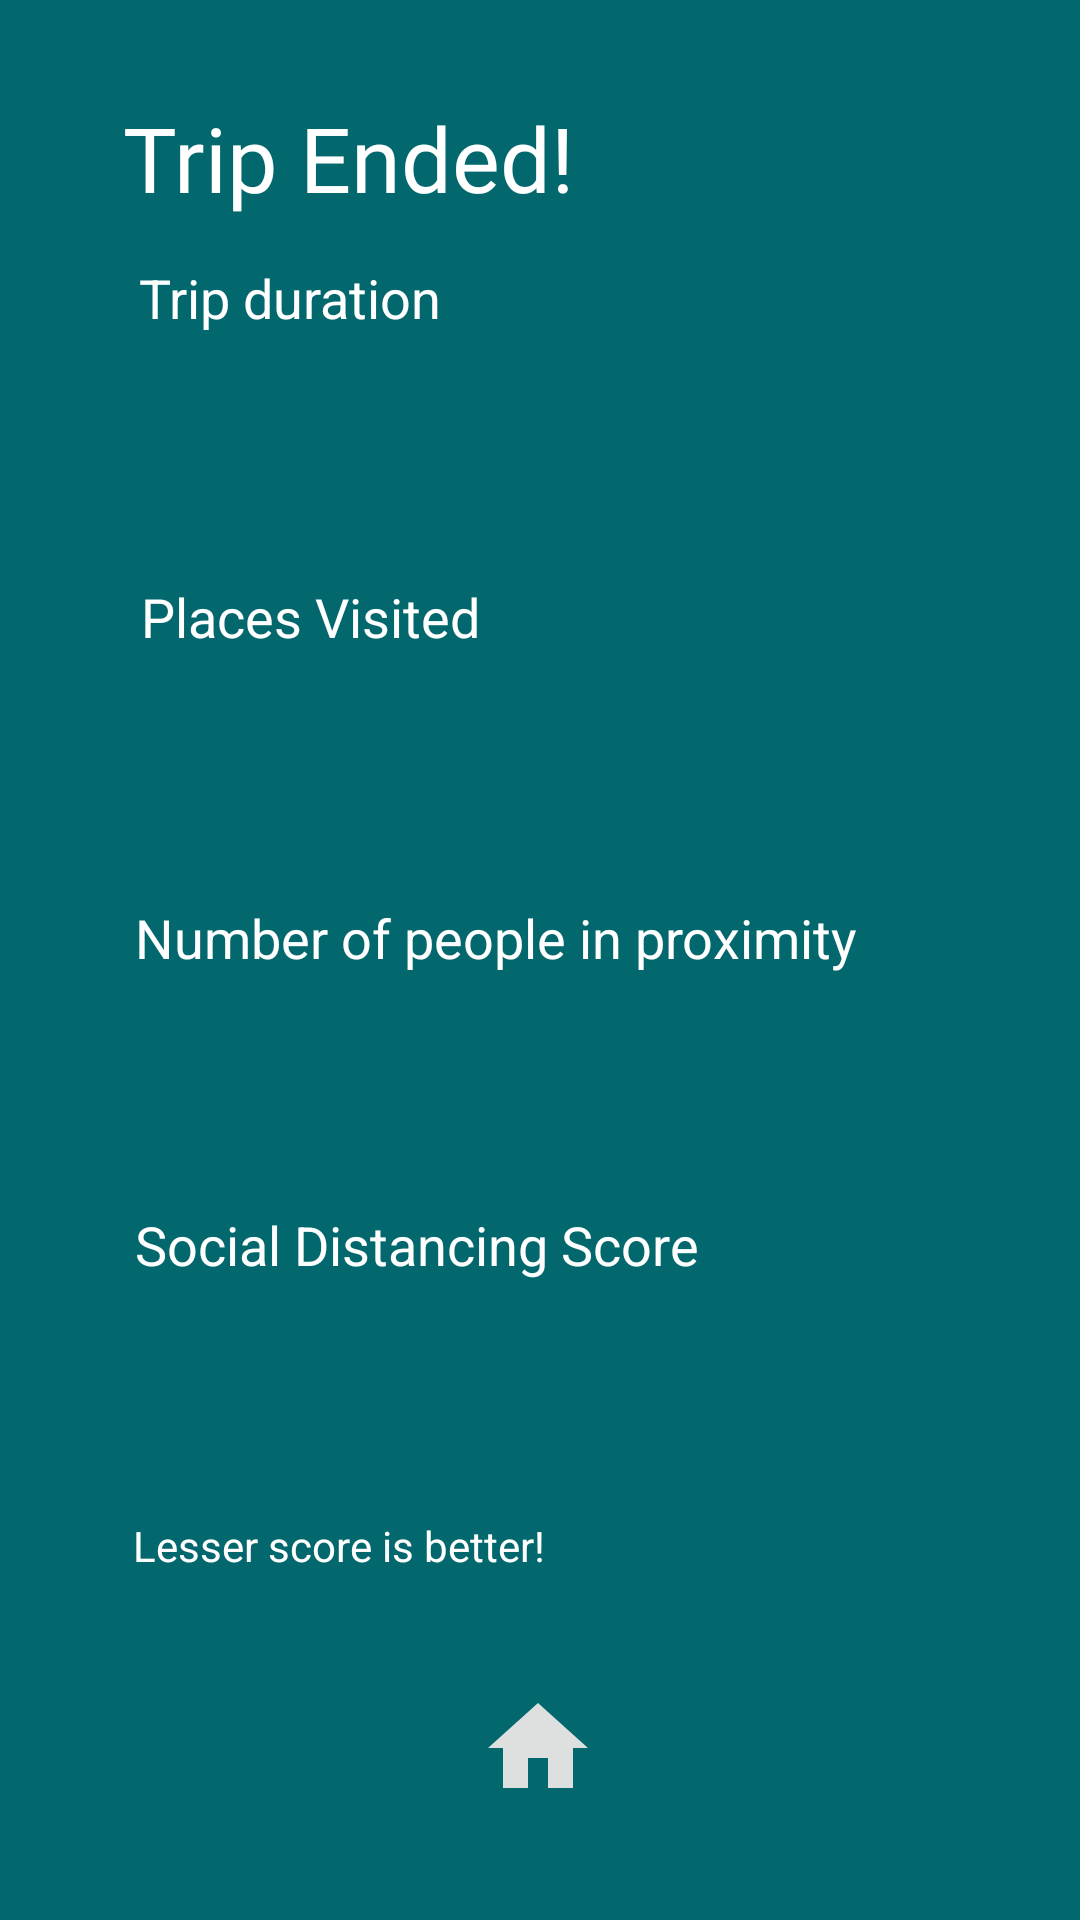

Locate icon controls on the screen. Image size 1080×1920, boxes as (x1, y1, x2, y2).
home: (488, 1703, 588, 1788)
